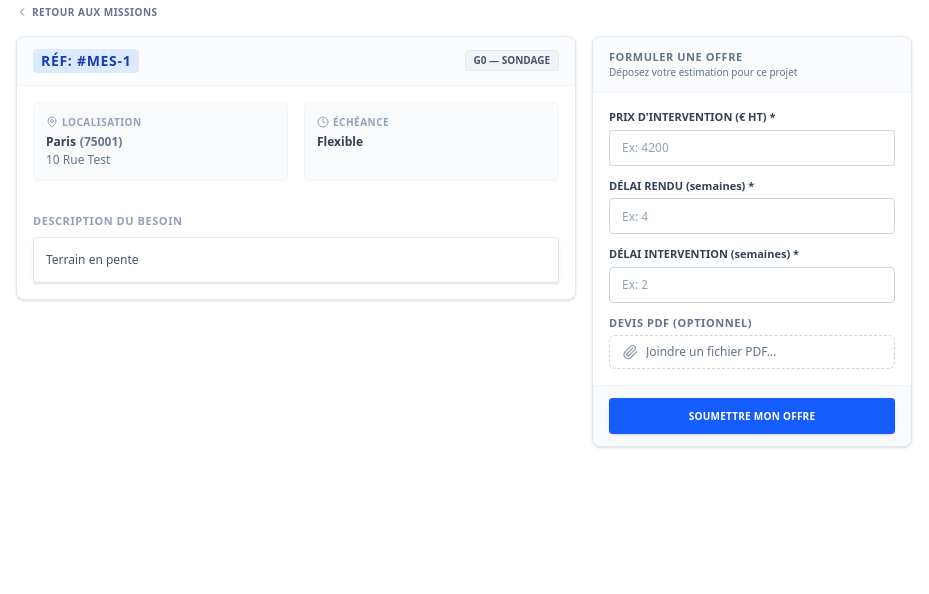
BERequestDetail — validation du formulaire de proposition › affiche "Minimum 1 semaine" si délai rendu < 1 après confirmation
Type "4200" into the number field with placeholder "Ex: 4200" at [752, 148], box [609,130,895,166]
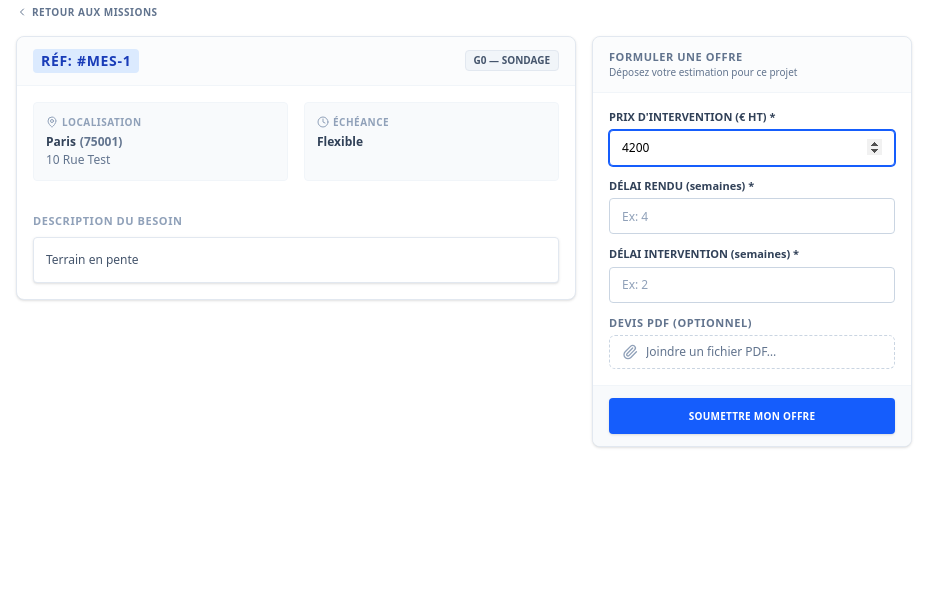
Type "0" into the number field with placeholder "Ex: 4" at [752, 216], box [609,198,895,234]
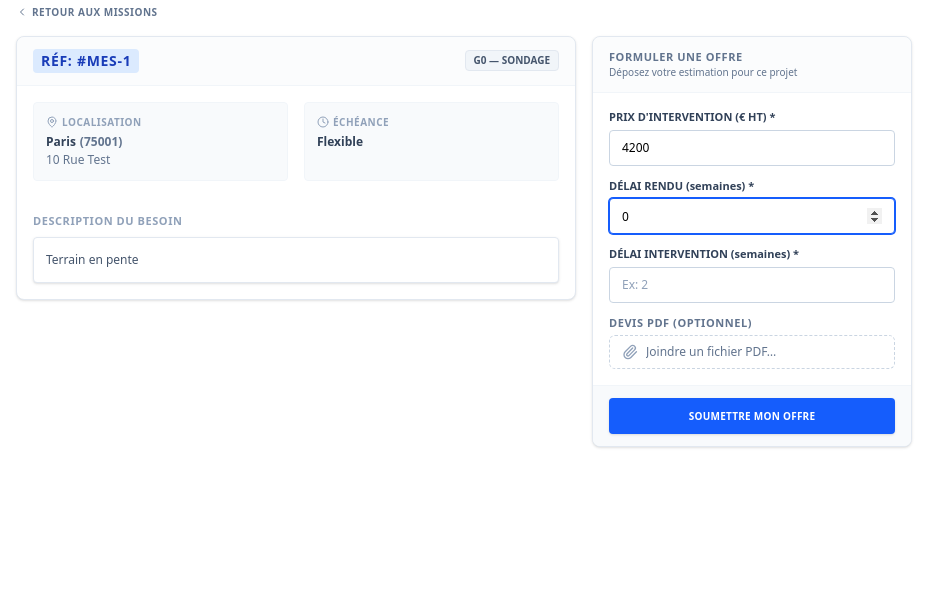
Type "2" into the number field with placeholder "Ex: 2" at [752, 284], box [609,266,895,302]
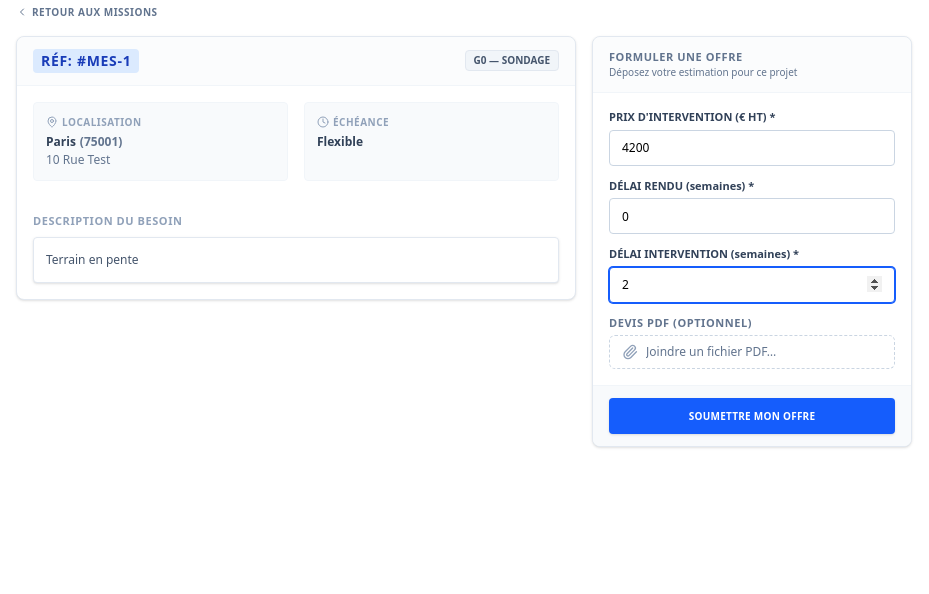
Click the button "SOUMETTRE MON OFFRE" at [752, 416], box [609,398,895,434]
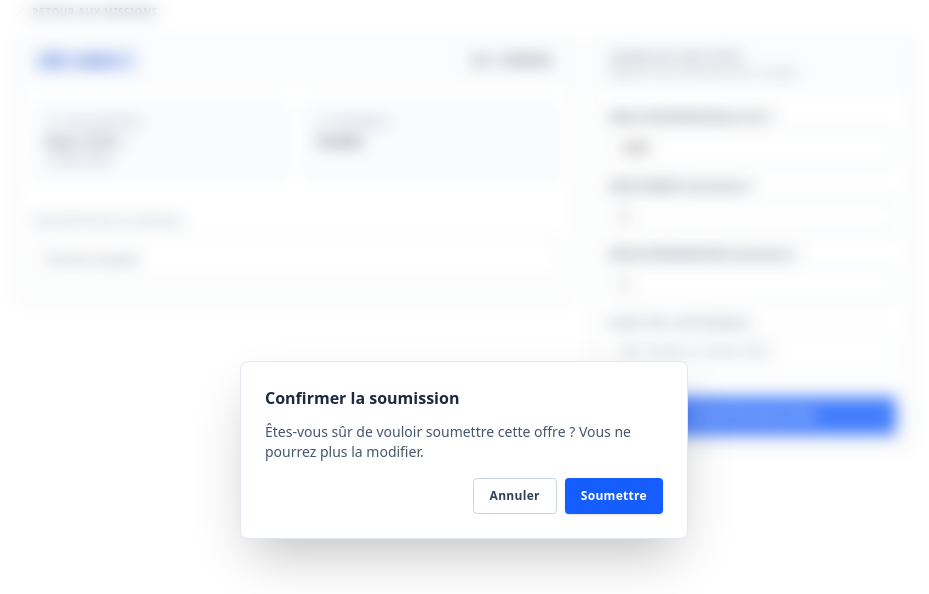
Now the heading "Confirmer la soumission" is shown, box [265,387,459,409]
Click the button "Soumettre" at [614, 496], box [565,478,663,514]
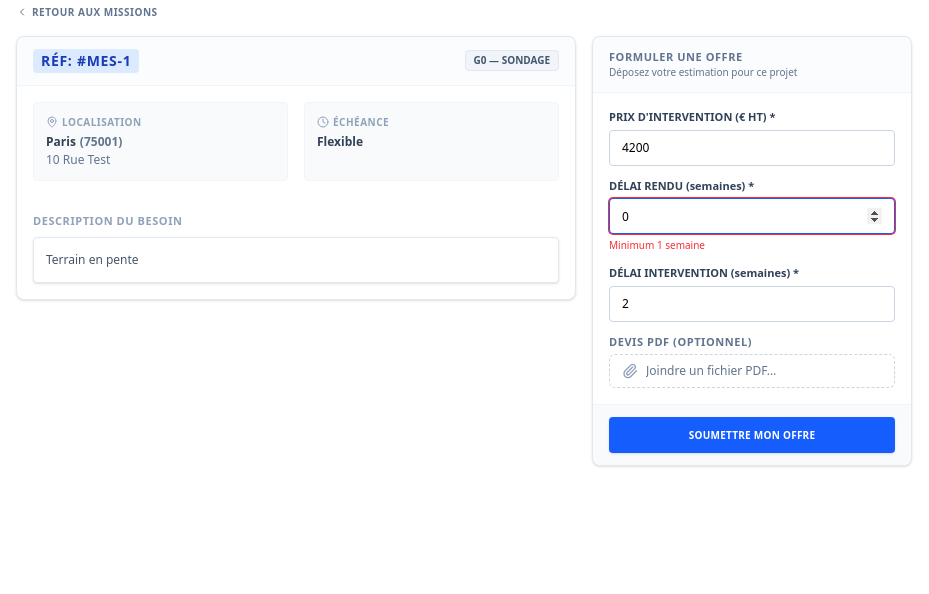
Now the text "Minimum 1 semaine" is shown, box [609,238,705,252]
